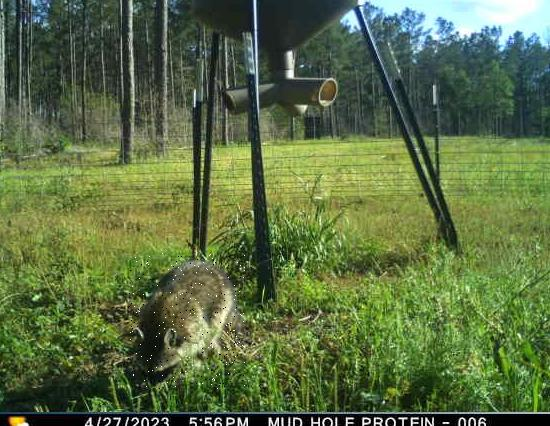Raccoon: (128, 253, 245, 389)
